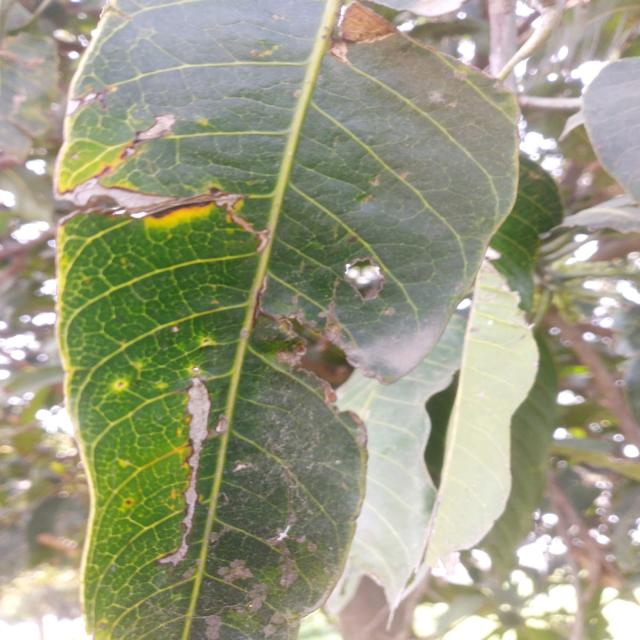Bacterial Canker: (276, 303, 386, 382)
Powdery Mildew: (182, 376, 207, 555), (330, 0, 399, 62), (188, 379, 212, 498), (340, 252, 391, 307), (225, 200, 276, 254), (62, 85, 118, 118), (132, 110, 181, 142), (216, 555, 254, 590), (278, 547, 299, 587), (247, 582, 268, 615), (205, 615, 221, 639), (215, 414, 230, 435)
